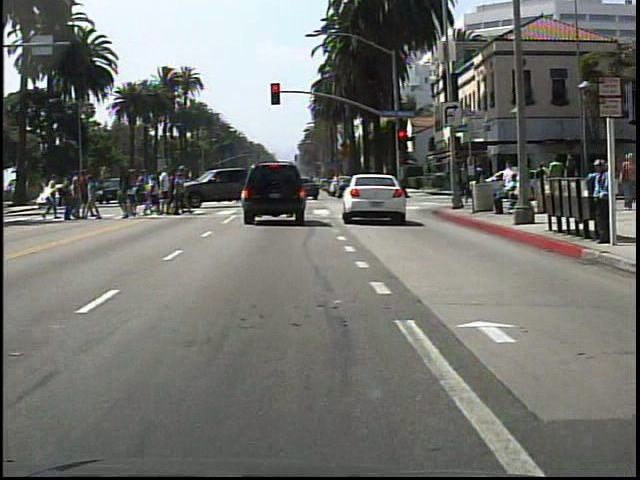person: (584, 156, 611, 246)
